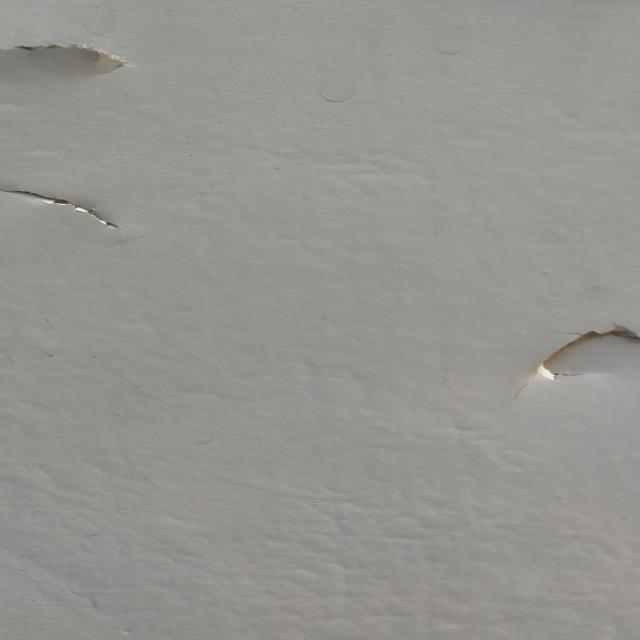Scratches: (520, 317, 640, 393), (1, 43, 145, 85), (1, 185, 125, 228)
